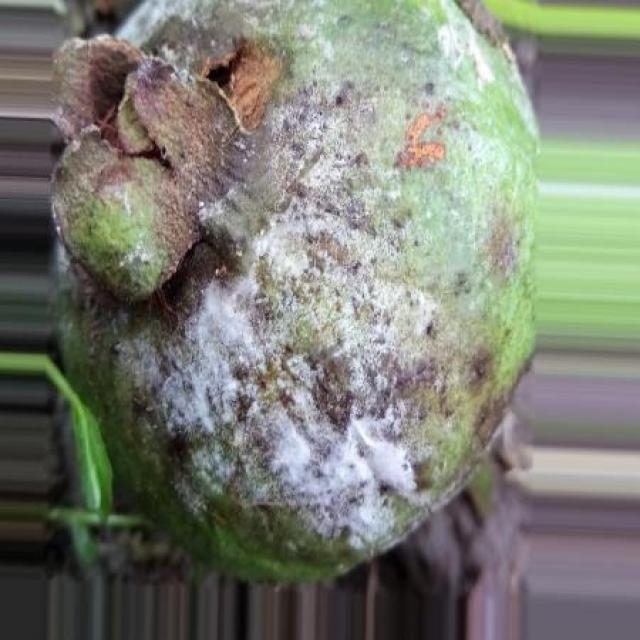Phytopthora: (52, 0, 538, 579)
